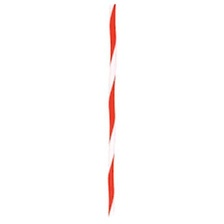drinking_straw: (99, 1, 124, 221)
